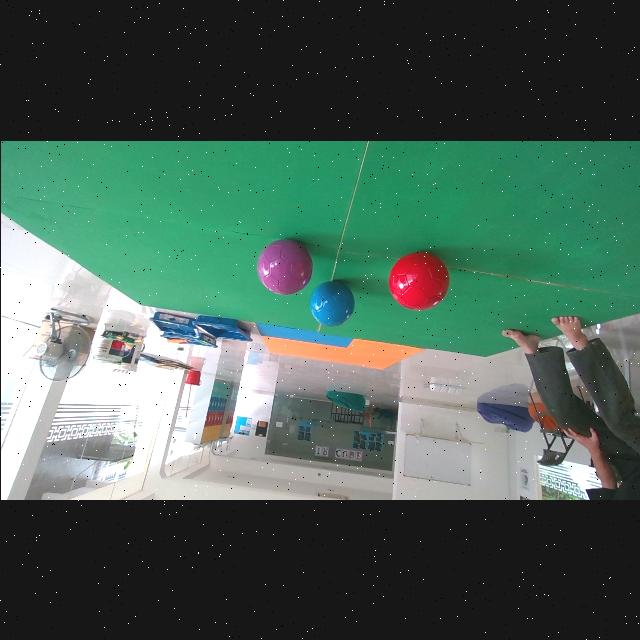B: (310, 281, 353, 325)
P: (257, 239, 311, 295)
R: (387, 252, 448, 310)
